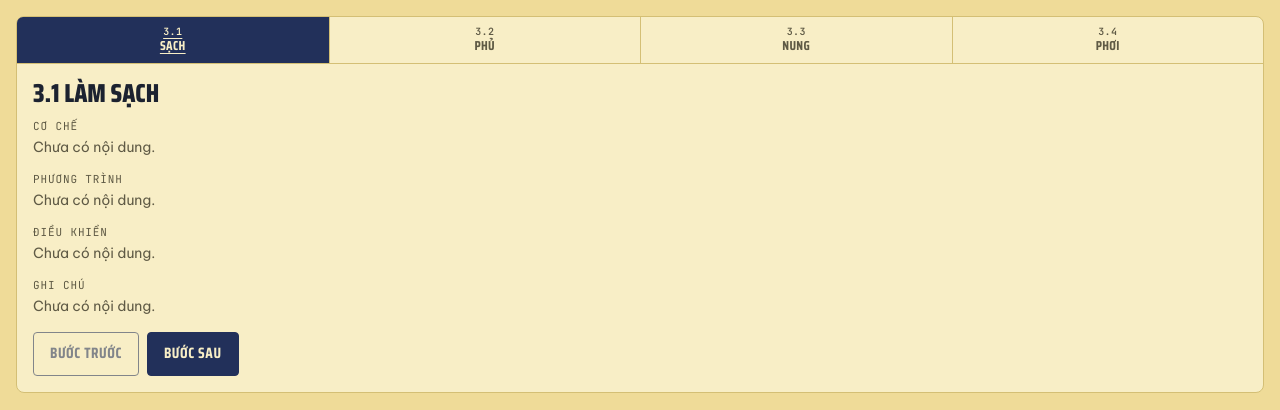
Test: Traveler with its own steps › shows the content a step brings in its slot, and "Chưa có nội dung" in the others
Expected: the text "Chưa có nội dung." is shown 4 times, [33, 138, 155, 156]; [33, 191, 155, 209]; [33, 244, 155, 262]; [33, 297, 155, 315]
Click the button "3.4 Phơi".
click(1108, 40)  # box [952, 17, 1263, 63]
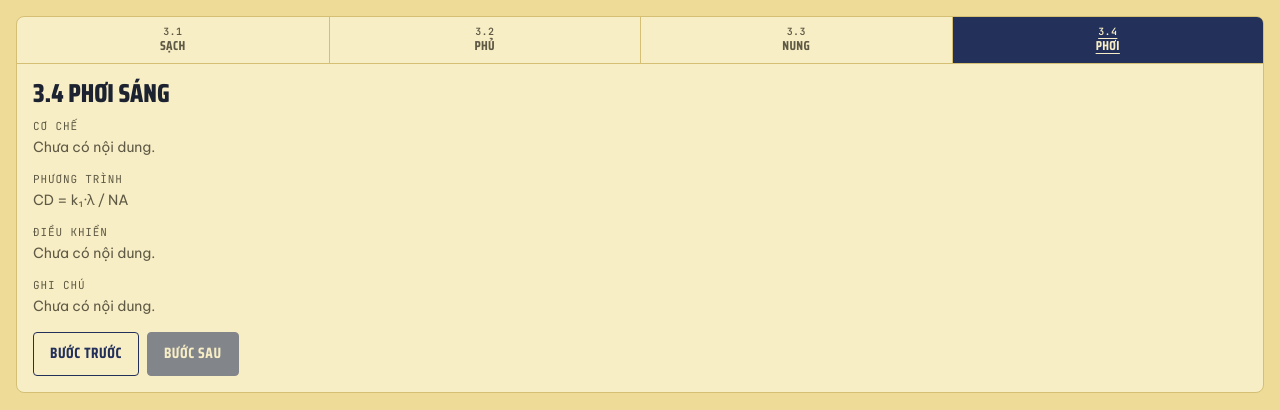
Expected: the text "Chưa có nội dung." is shown 3 times, [33, 138, 155, 156]; [33, 244, 155, 262]; [33, 297, 155, 315]
Now the text "CD = k₁·λ / NA" is shown, box [33, 191, 128, 209]
